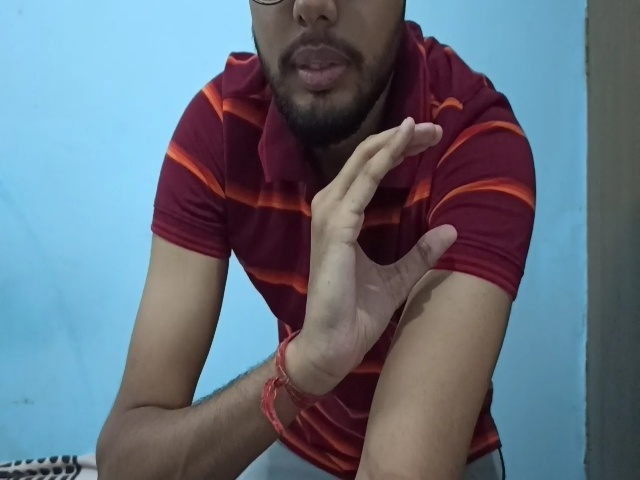C: (302, 116, 456, 377)
